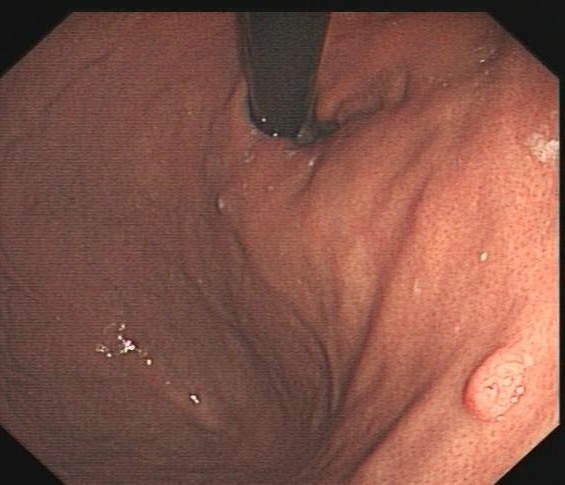Polyp: (457, 349, 522, 420)
